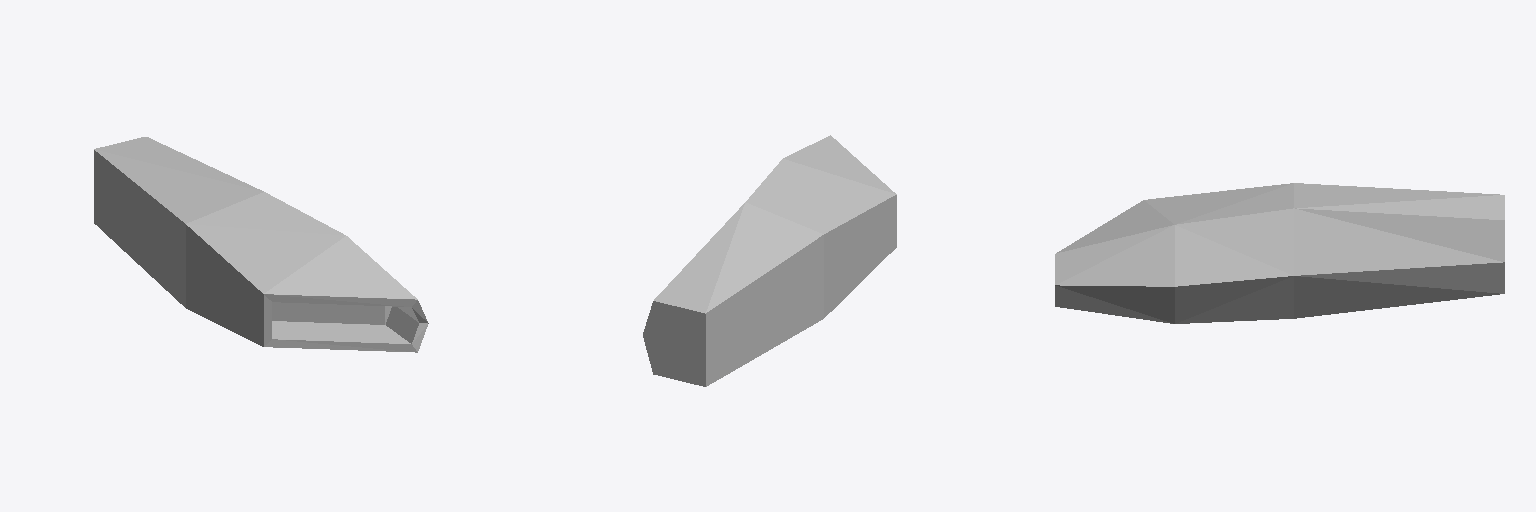
Rendered from right_lower_leg.obj.
3 renders of one model, left to right at view 1: azimuth 30°, elevation 25°; view 2: azimuth 150°, elevation 25°; view 3: azimuth 270°, elevation 25°, orthographic.
Visible parts, largest first — view 1: cube2; view 2: cube2; view 3: cube2.
Boxes of the visible parts, x1,y1,x2,y2 form: cube2: [94, 137, 428, 352]; cube2: [643, 135, 896, 386]; cube2: [1055, 183, 1504, 323].
Size of the model in its own units: 0.1387 by 0.1158 by 0.427.